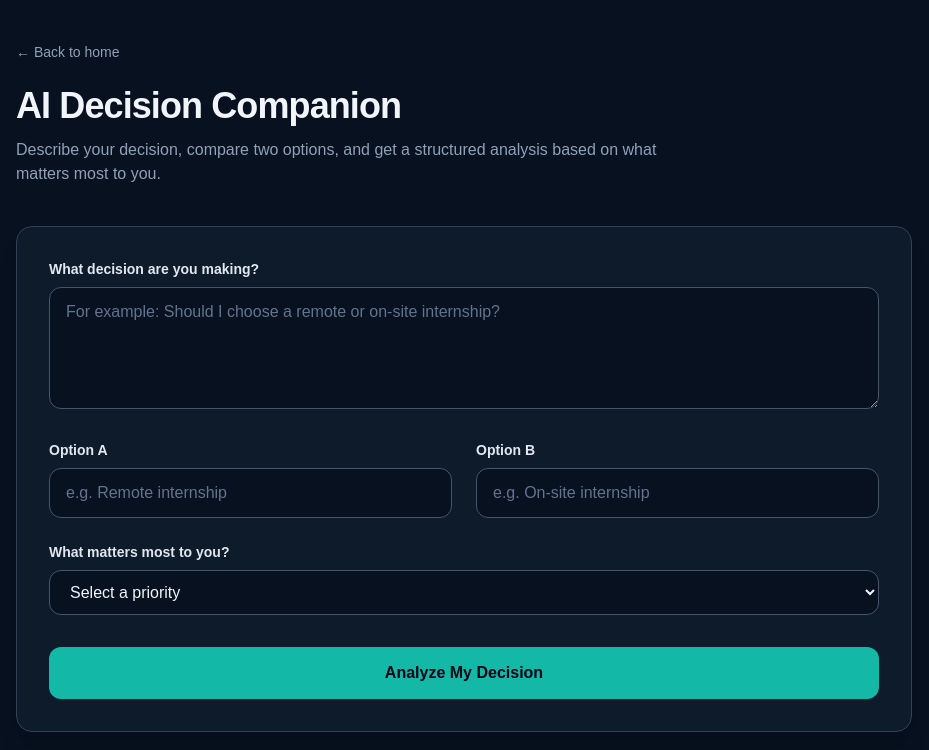
Test case: AI Decision Companion › submits a valid decision and displays the AI analysis
In the text box labelled "What decision are you making?": (464,348) x1=49 y1=287 x2=879 y2=409, type "Should I choose a remote or on-site internship?"
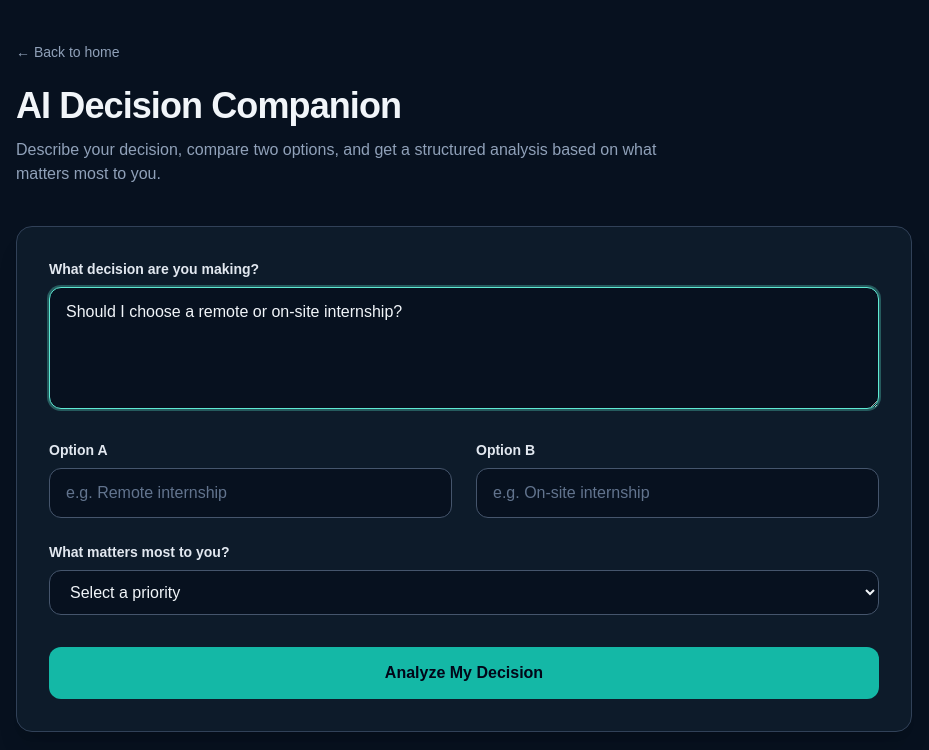
In the field labelled "Option A": (250,493) x1=49 y1=468 x2=452 y2=518, type "Remote internship"
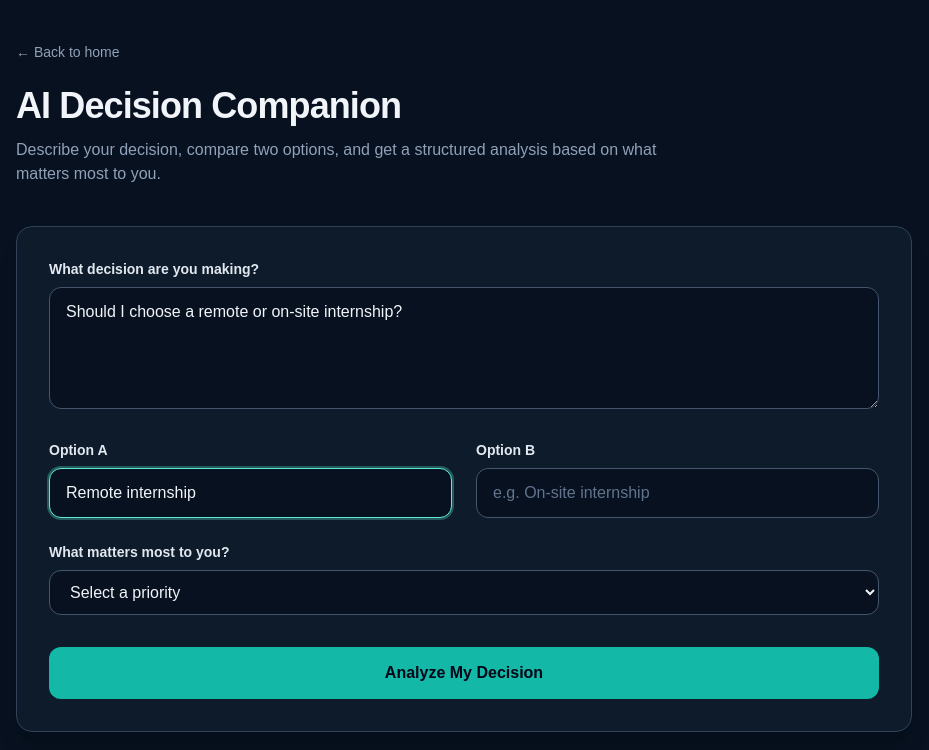
In the field labelled "Option B": (678,493) x1=476 y1=468 x2=879 y2=518, type "On-site internship"
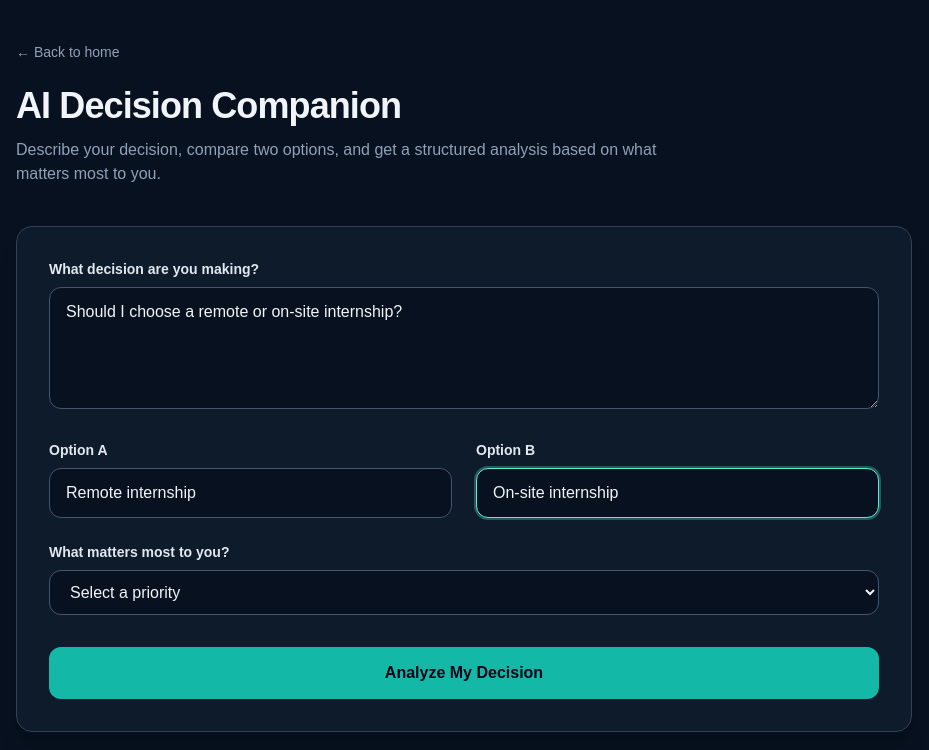
Select "Career growth" in the dropdown labelled "What matters most to you?": (464,592) x1=49 y1=570 x2=879 y2=615
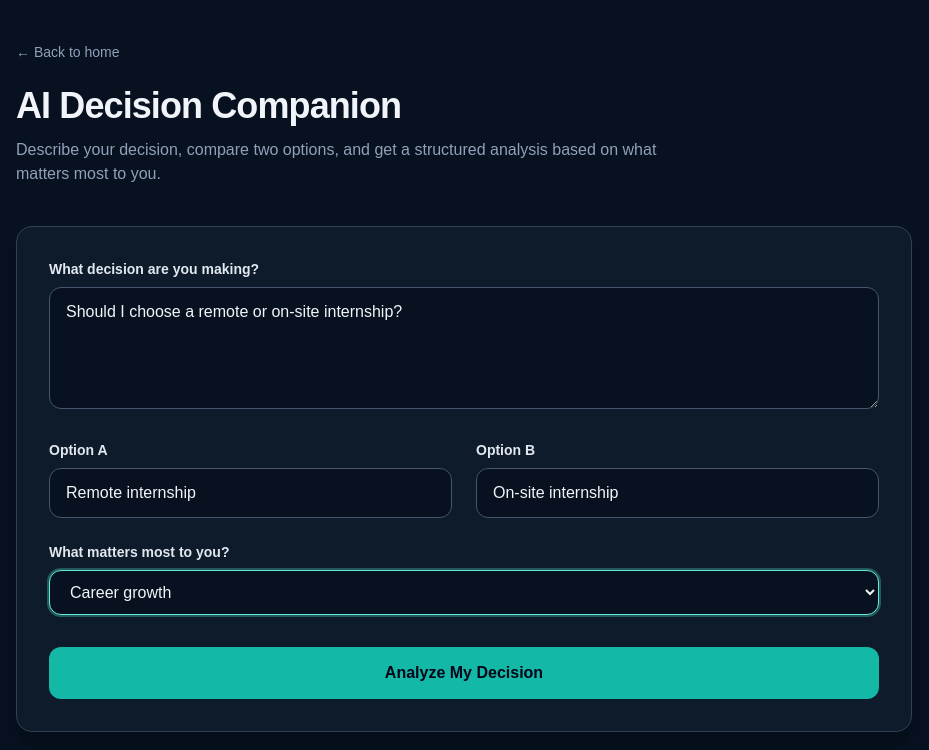
Click the button "Analyze My Decision": (464,673) x1=49 y1=647 x2=879 y2=699
(page scrolled)
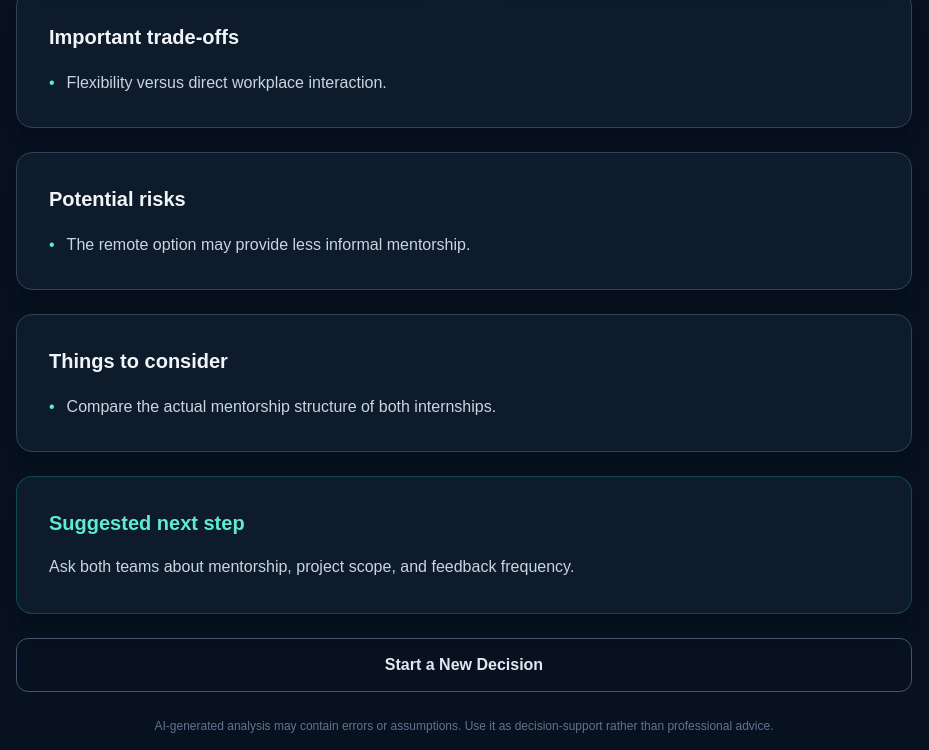
Expected: the text "Ask both teams about mentorship, project scope, and feedback frequency." is shown, x1=49 y1=558 x2=574 y2=575
